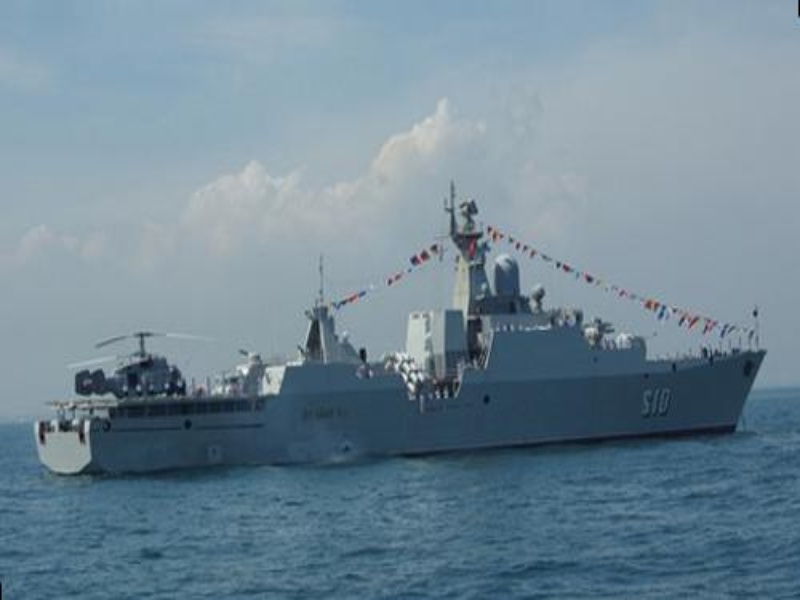cruise: (51, 212, 761, 472)
